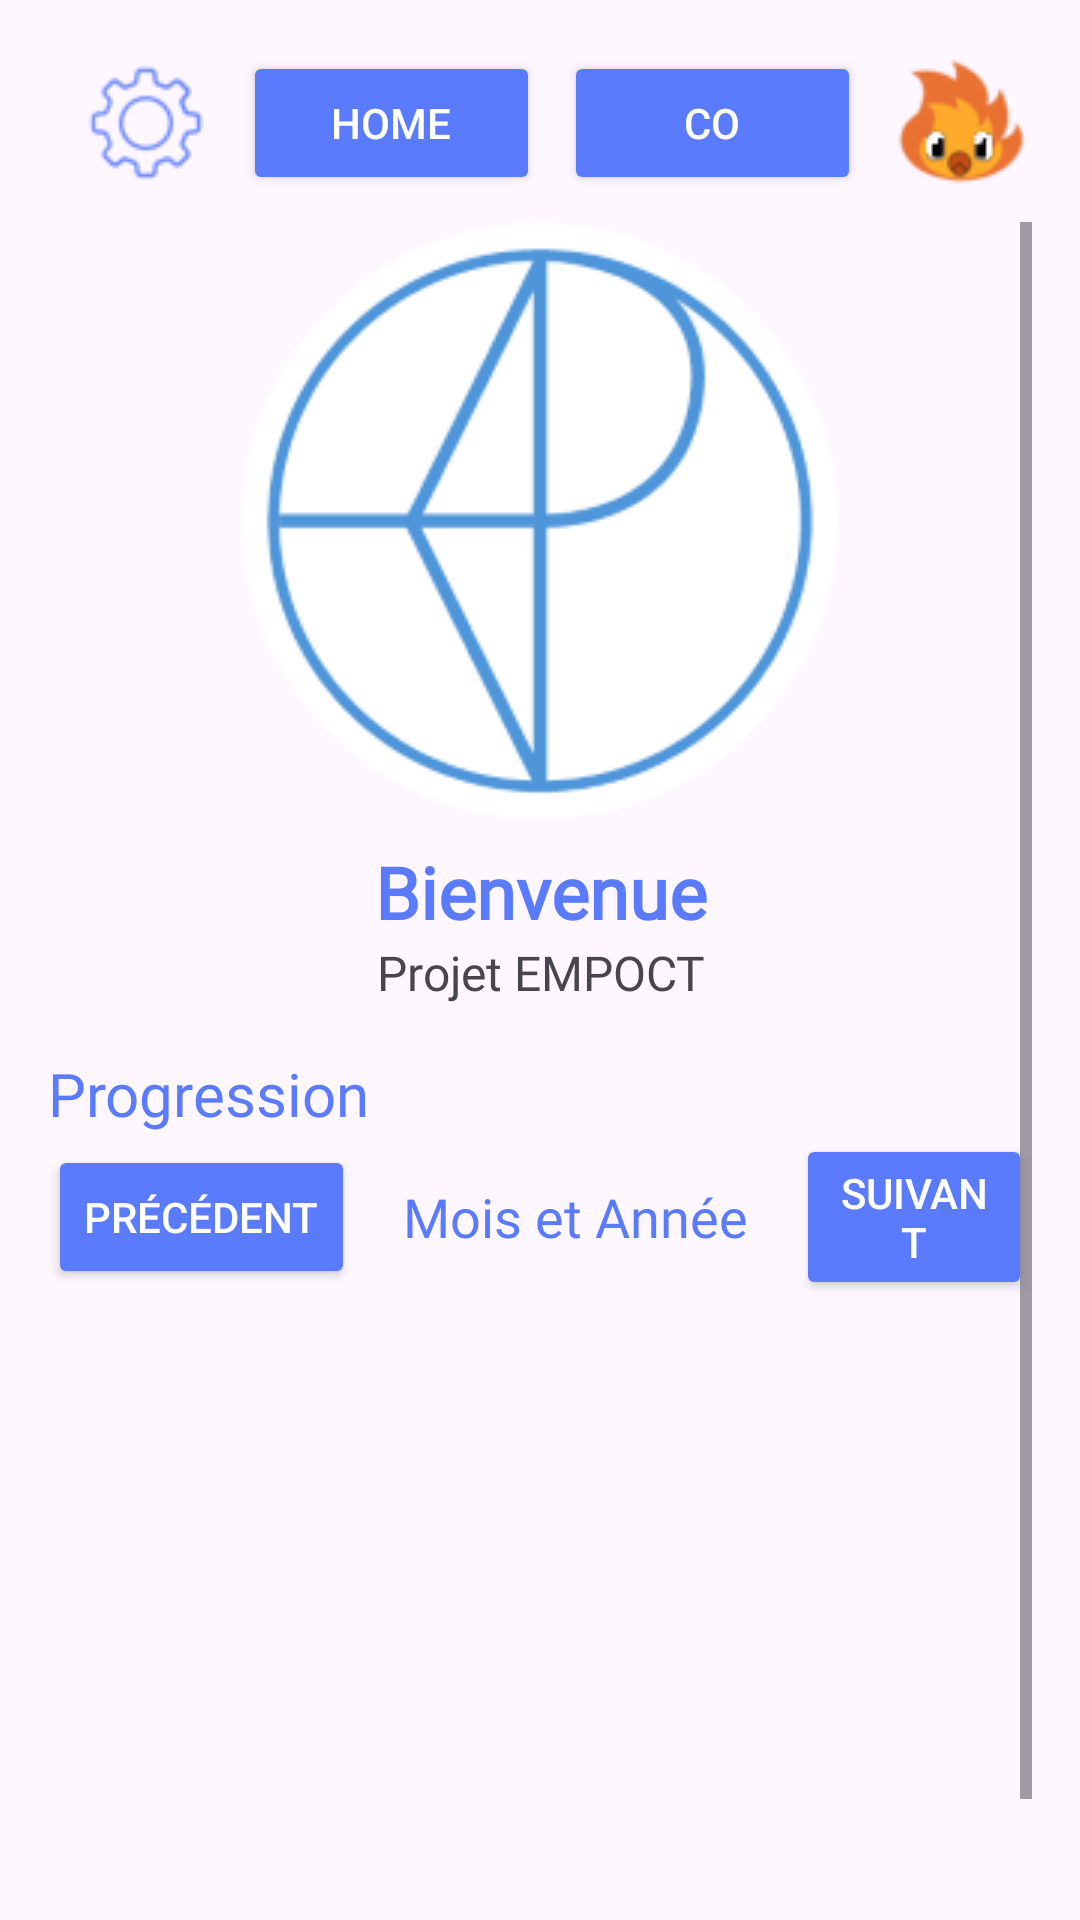

Where icons sit on this 1080 x 1920 app screen, as bbox=[x1, y1, x2, y2]:
bird resized: bbox=[898, 60, 1024, 183]
